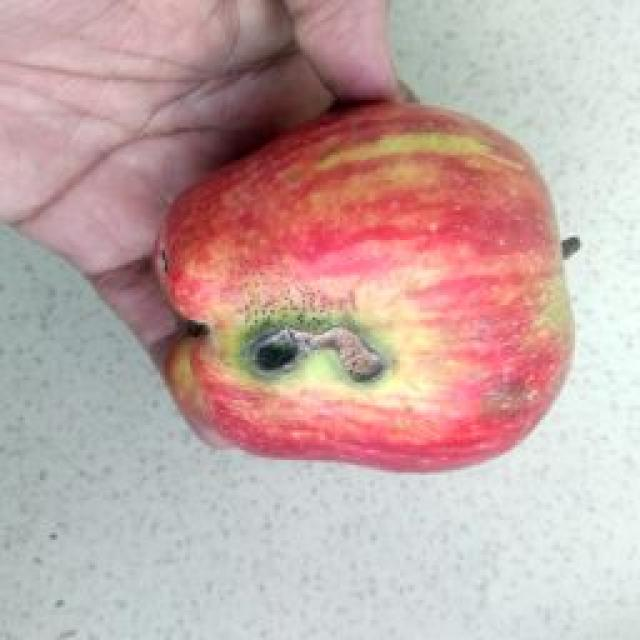Bad_Apple: (159, 104, 572, 471)
